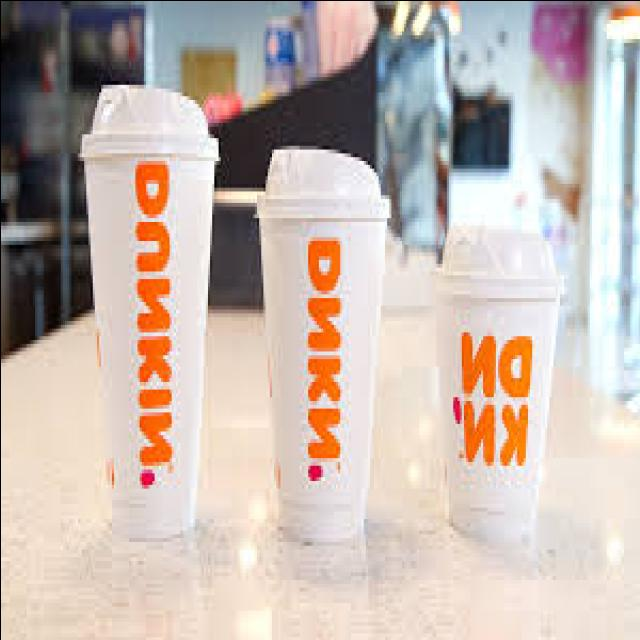styrofoam: (81, 87, 216, 532), (258, 150, 388, 539), (436, 228, 558, 531)
